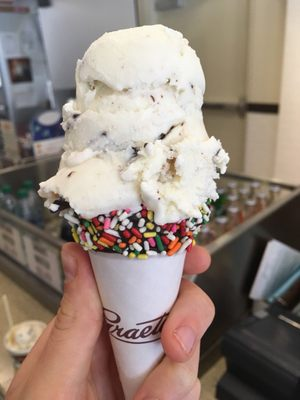pizza: (4, 242, 217, 400)
